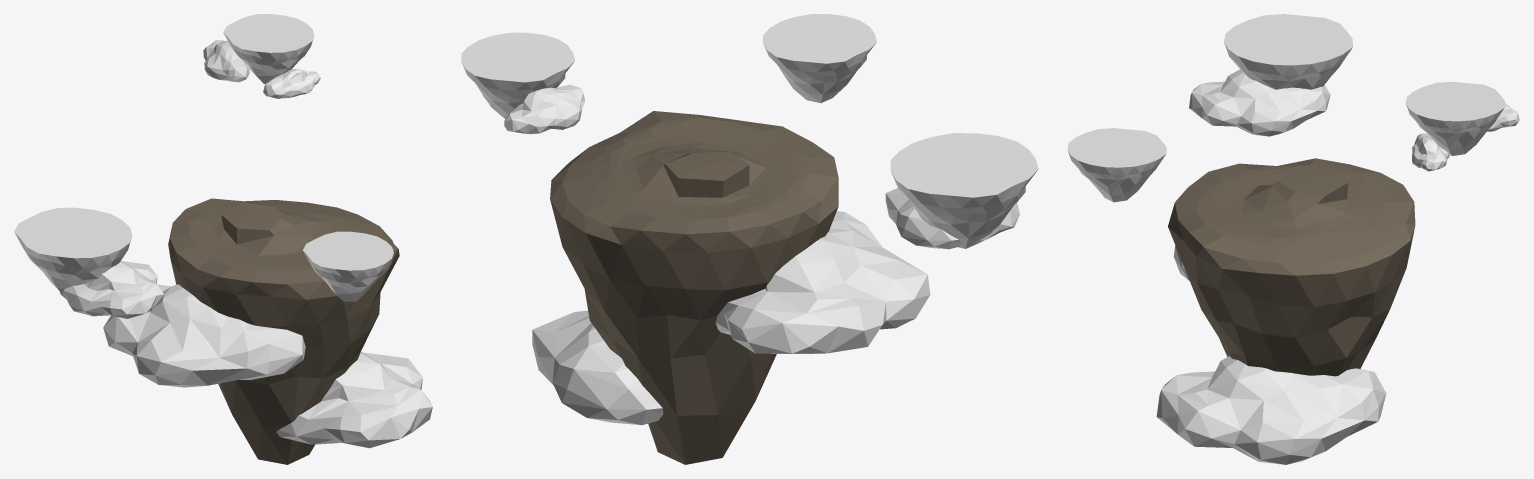
File: AirArena3.fbx
3 views of the same model, side by side, from view 1: azimuth 30°, elevation 25°; view 2: azimuth 150°, elevation 25°; view 3: azimuth 270°, elevation 25° (orthographic). The views are drawn at different scales.
Parts seen in each view (by area): view 1: Icosphere, Cloud.004, Cloud.003, Icosphere.003, Icosphere.002, Icosphere.001, Cloud.002, Cloud.001, Cloud; view 2: Icosphere, Cloud.004, Icosphere.003, Cloud.003, Icosphere.002, Icosphere.001, Cloud.001, Cloud.002; view 3: Icosphere, Cloud.003, Icosphere.003, Cloud.002, Icosphere.002, Icosphere.001, Cloud.
Boxes of the visible parts, x1,y1,x2,y2 form: Icosphere: [168, 198, 399, 464]; Cloud.004: [103, 284, 305, 387]; Cloud.003: [276, 351, 432, 448]; Icosphere.003: [14, 207, 132, 293]; Icosphere.002: [303, 231, 393, 301]; Icosphere.001: [223, 14, 314, 83]; Cloud.002: [59, 261, 164, 318]; Cloud.001: [203, 40, 249, 82]; Cloud: [263, 69, 320, 98]; Icosphere: [550, 111, 838, 464]; Cloud.004: [715, 211, 930, 353]; Icosphere.003: [890, 133, 1038, 248]; Cloud.003: [532, 310, 663, 425]; Icosphere.002: [763, 14, 876, 103]; Icosphere.001: [461, 32, 575, 118]; Cloud.001: [504, 84, 585, 134]; Cloud.002: [885, 188, 1019, 249]; Icosphere: [1168, 158, 1415, 376]; Cloud.003: [1156, 356, 1386, 464]; Icosphere.003: [1224, 14, 1352, 89]; Cloud.002: [1189, 69, 1330, 136]; Icosphere.002: [1067, 128, 1166, 202]; Icosphere.001: [1405, 81, 1504, 155]; Cloud: [1412, 133, 1449, 171].
Bounding box in the file's own units: 1693 × 1466 × 1597.
